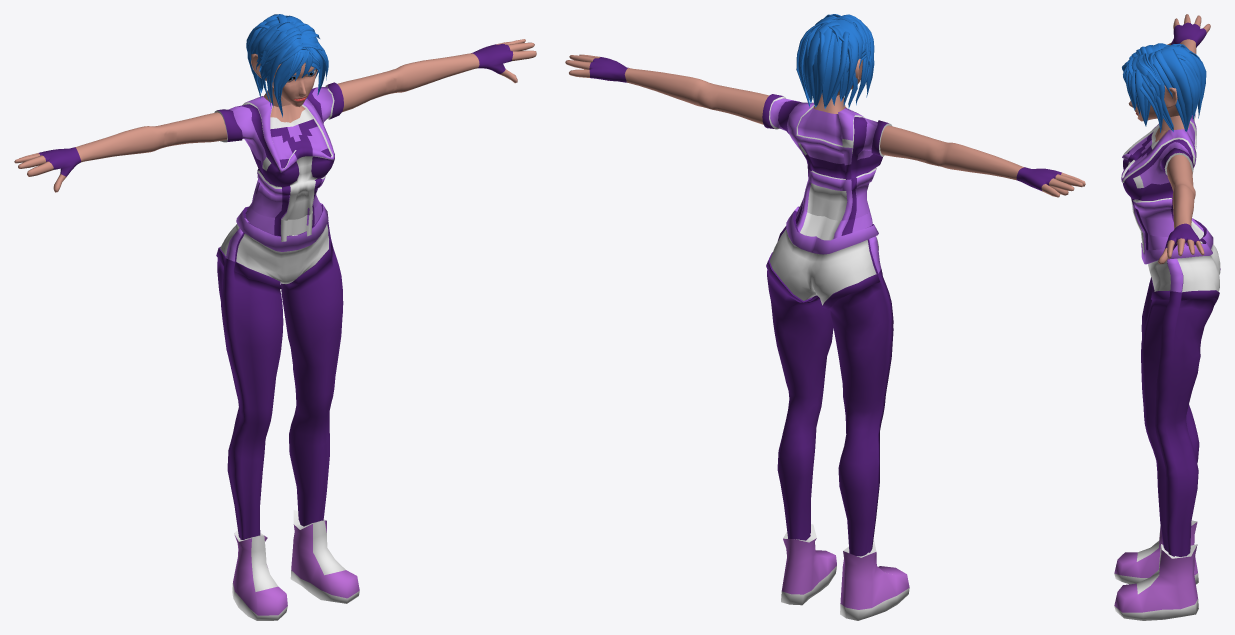
File: SAPATO.fbx
3 renders of one model, left to right at view 1: azimuth 30°, elevation 25°; view 2: azimuth 150°, elevation 25°; view 3: azimuth 270°, elevation 25°, orthographic. The views are drawn at different scales.
Parts seen in each view (by area): view 1: SAPATO, SAPATO.001; view 2: SAPATO, SAPATO.001; view 3: SAPATO, SAPATO.001.
Boxes of the visible parts, x1=… form: SAPATO: x1=14, y1=39, x2=536, y2=620; SAPATO.001: x1=246, y1=14, x2=328, y2=117; SAPATO: x1=565, y1=54, x2=1085, y2=620; SAPATO.001: x1=796, y1=14, x2=874, y2=108; SAPATO: x1=1114, y1=14, x2=1220, y2=620; SAPATO.001: x1=1122, y1=43, x2=1206, y2=132.
Size of the model in its own units: 190 by 204 by 35.62.
